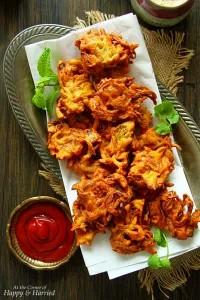OnionPakoda: (46, 27, 200, 253)
